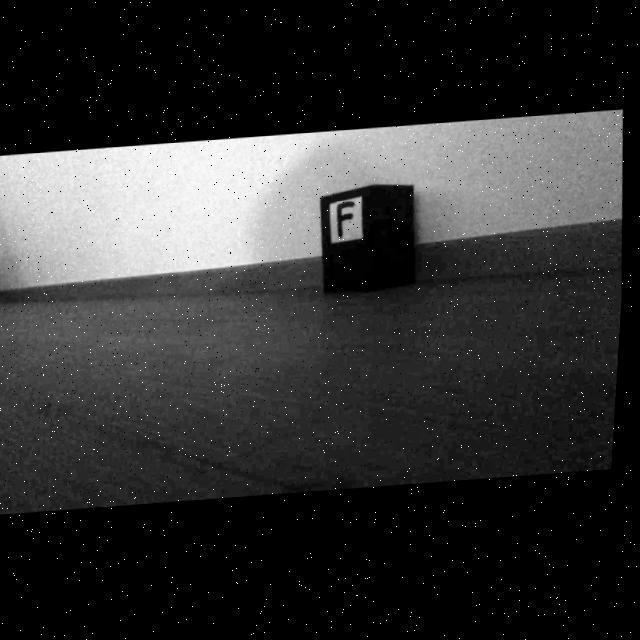F: (340, 203, 358, 239)
